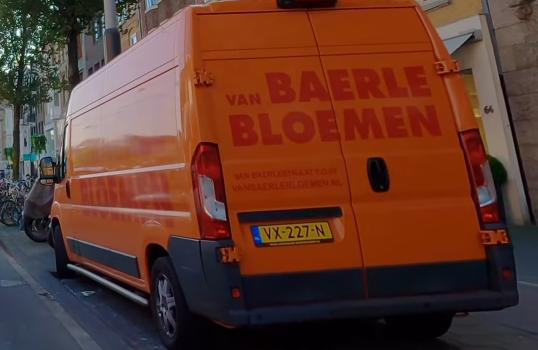license-plate: (248, 220, 337, 248)
